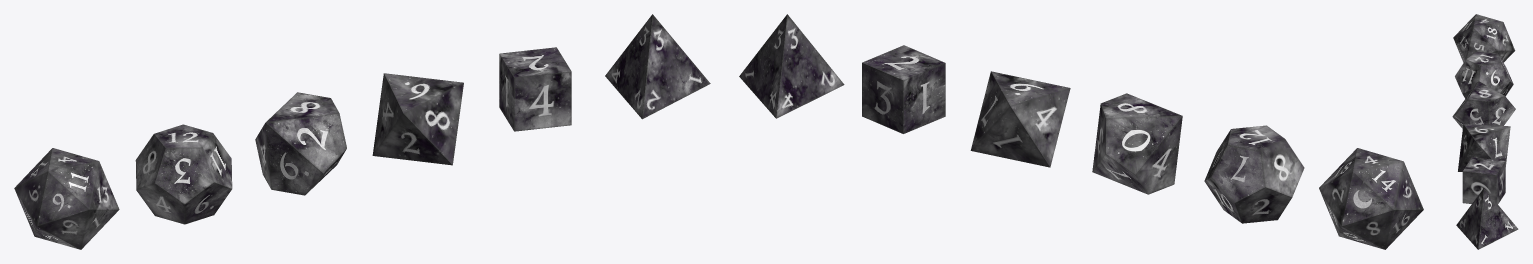
Rendered from dices_black.glb.
The picture shows the model from 3 angles, left to right: view 1: azimuth 30°, elevation 25°; view 2: azimuth 150°, elevation 25°; view 3: azimuth 270°, elevation 25°; orthographic projection. The views are drawn at different scales.
Visible parts, largest first — view 1: d12, d20, d8, d10, d4, d6; view 2: d20, d12, d10, d8, d6, d4; view 3: d4, d20, d10, d8, d12, d6.
Part boxes in pixels (x1=…): d12: x1=135, y1=124, x2=232, y2=224; d20: x1=14, y1=148, x2=119, y2=249; d8: x1=372, y1=73, x2=463, y2=165; d10: x1=255, y1=92, x2=346, y2=195; d4: x1=605, y1=14, x2=710, y2=119; d6: x1=499, y1=47, x2=571, y2=131; d20: x1=1319, y1=148, x2=1423, y2=249; d12: x1=1204, y1=125, x2=1304, y2=223; d10: x1=1092, y1=93, x2=1182, y2=194; d8: x1=970, y1=71, x2=1070, y2=167; d6: x1=862, y1=45, x2=945, y2=133; d4: x1=739, y1=14, x2=844, y2=118; d4: x1=1456, y1=188, x2=1518, y2=249; d20: x1=1453, y1=14, x2=1515, y2=62; d10: x1=1452, y1=81, x2=1515, y2=128; d8: x1=1458, y1=124, x2=1510, y2=171; d12: x1=1455, y1=51, x2=1513, y2=98; d6: x1=1462, y1=157, x2=1505, y2=204.
Size of the model in its own units: 9.29 by 1.09 by 1.33.
1 material, 1 textured.
